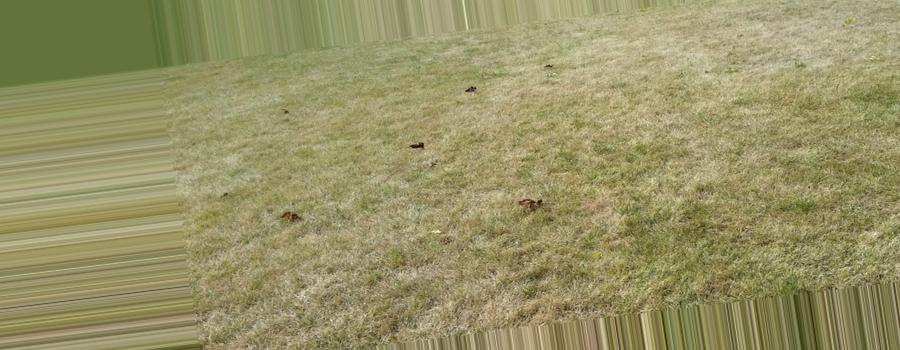patch: (189, 80, 761, 277), (431, 41, 859, 143), (711, 11, 878, 268), (247, 248, 488, 324)
